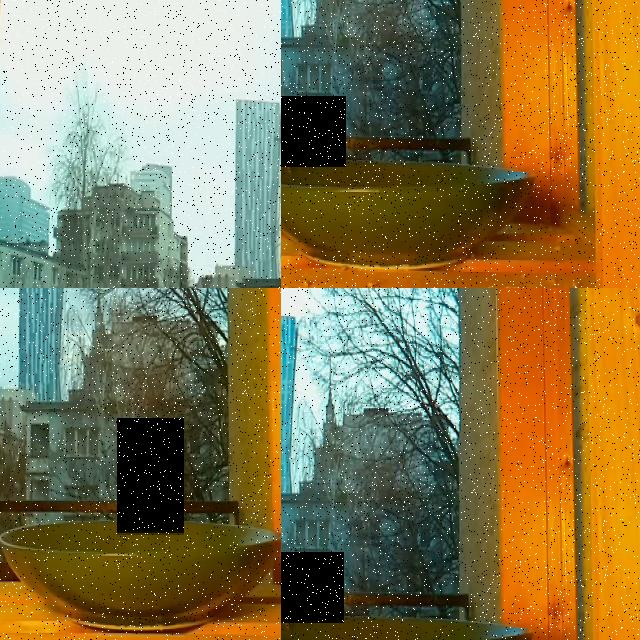Bogatka: (117, 418, 184, 534)
Modraszka: (281, 96, 346, 166), (281, 552, 344, 622)
